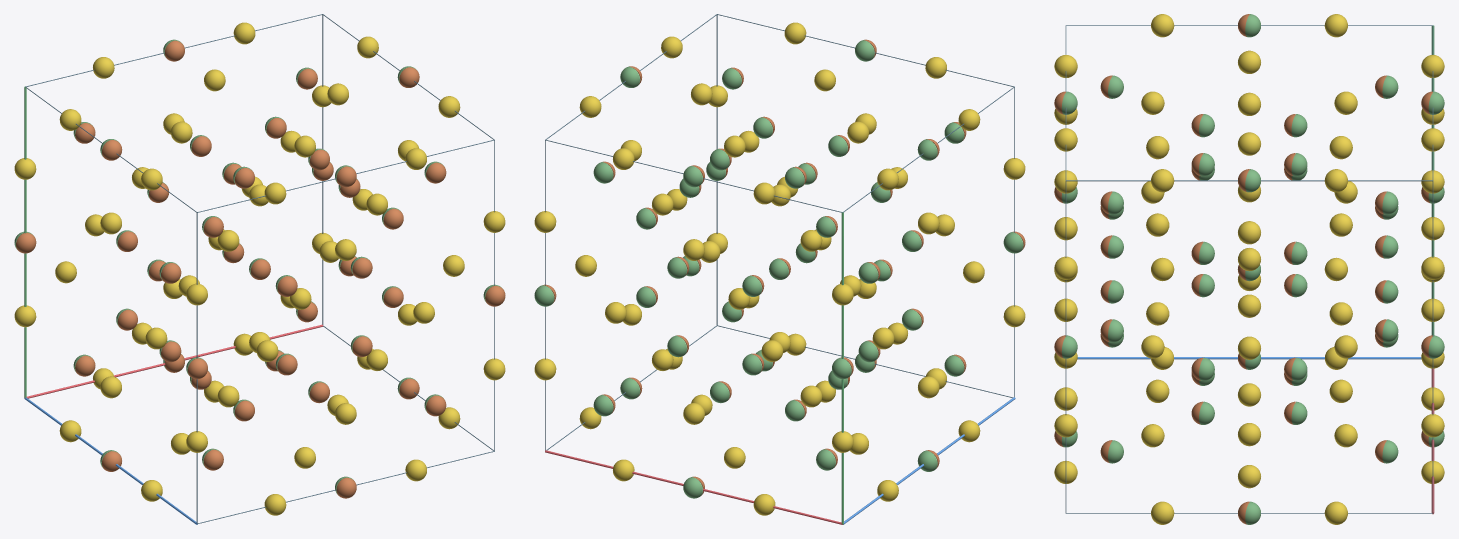
Rendered from pentlandite.glb.
The picture shows the model from 3 angles, left to right: view 1: azimuth 30°, elevation 25°; view 2: azimuth 150°, elevation 25°; view 3: azimuth 270°, elevation 25°; orthographic projection. The views are drawn at different scales.
Parts seen in each view (by area): view 1: Ô mạng và các trục a, b, c; view 2: Ô mạng và các trục a, b, c; view 3: Ô mạng và các trục a, b, c.
Boxes of the visible parts, box(x1,y1,x2,y2) form: Ô mạng và các trục a, b, c: box(24, 14, 494, 524); Ô mạng và các trục a, b, c: box(545, 14, 1015, 524); Ô mạng và các trục a, b, c: box(1065, 25, 1434, 514).
Size of the model in its own units: 10.68 by 10.68 by 10.68.
